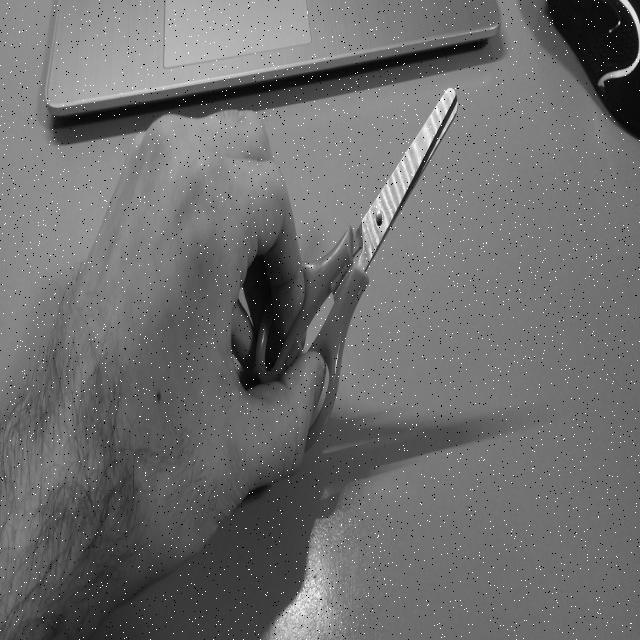scissors: (252, 86, 459, 457)
